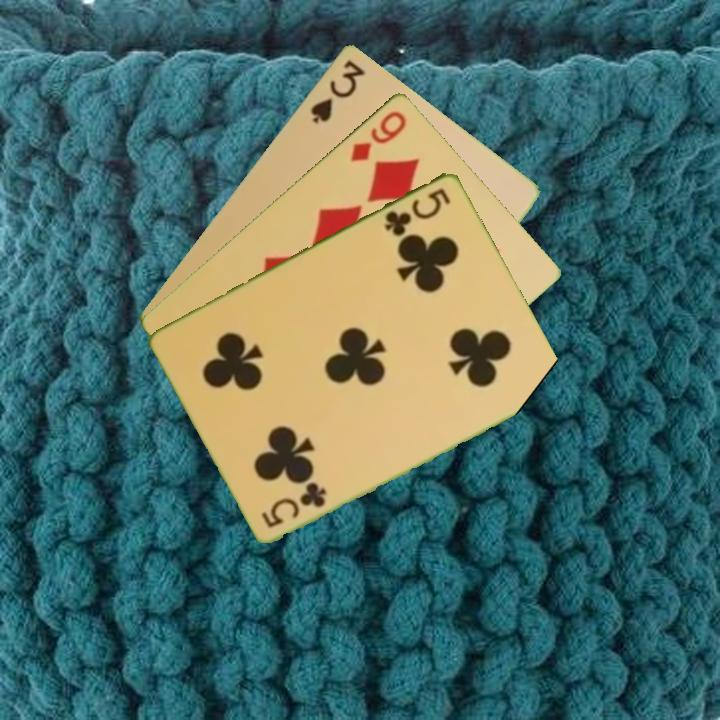3s: (306, 55, 369, 126)
5c: (381, 184, 454, 239), (258, 480, 330, 530)
9d: (347, 107, 409, 164)
